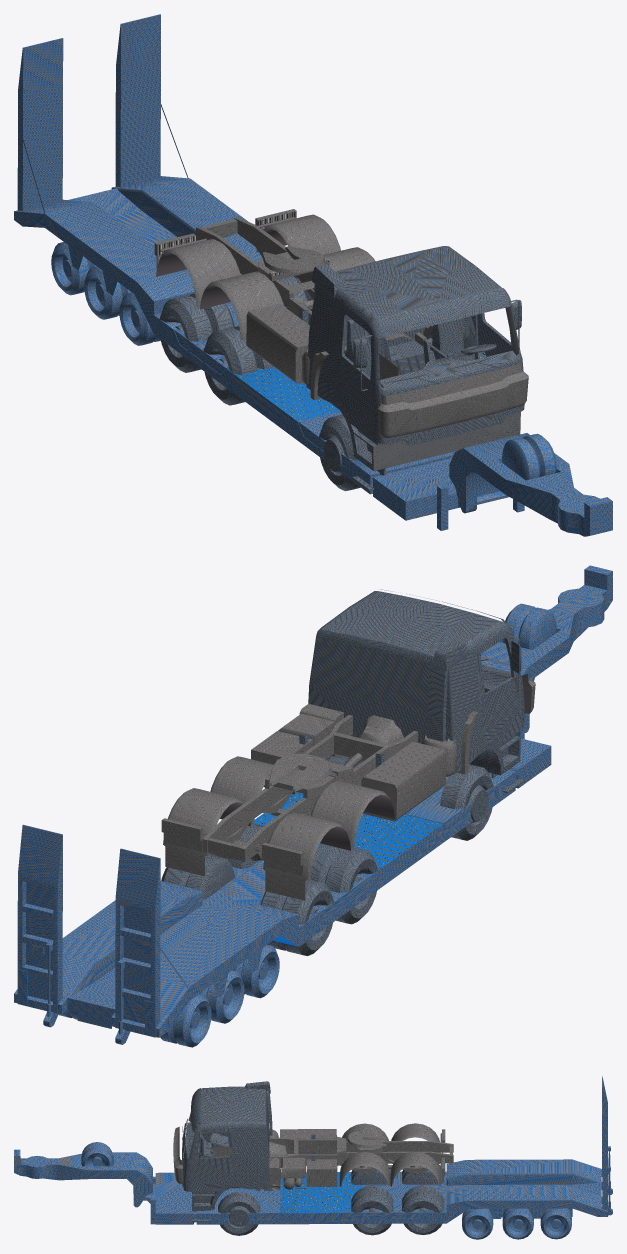
Rendered from traffic-truck-flatbed.gltf.
3 views of the same model, one above another, from view 1: azimuth 30°, elevation 25°; view 2: azimuth 150°, elevation 25°; view 3: azimuth 270°, elevation 25° (orthographic). The views are drawn at different scales.
Bounding box in the file's own units: 6041 × 7539 × 32539.
Materials: 4 (4 with a texture image).
